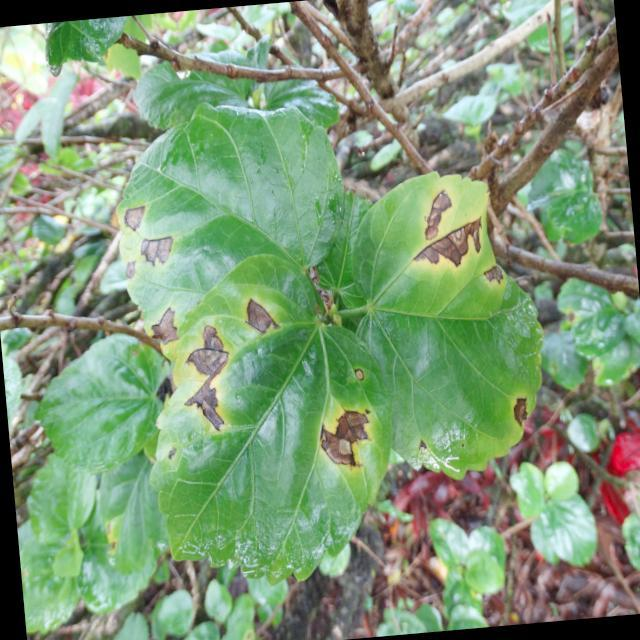Tomato Septoria spot leaf: (131, 258, 405, 592), (344, 160, 560, 476)
